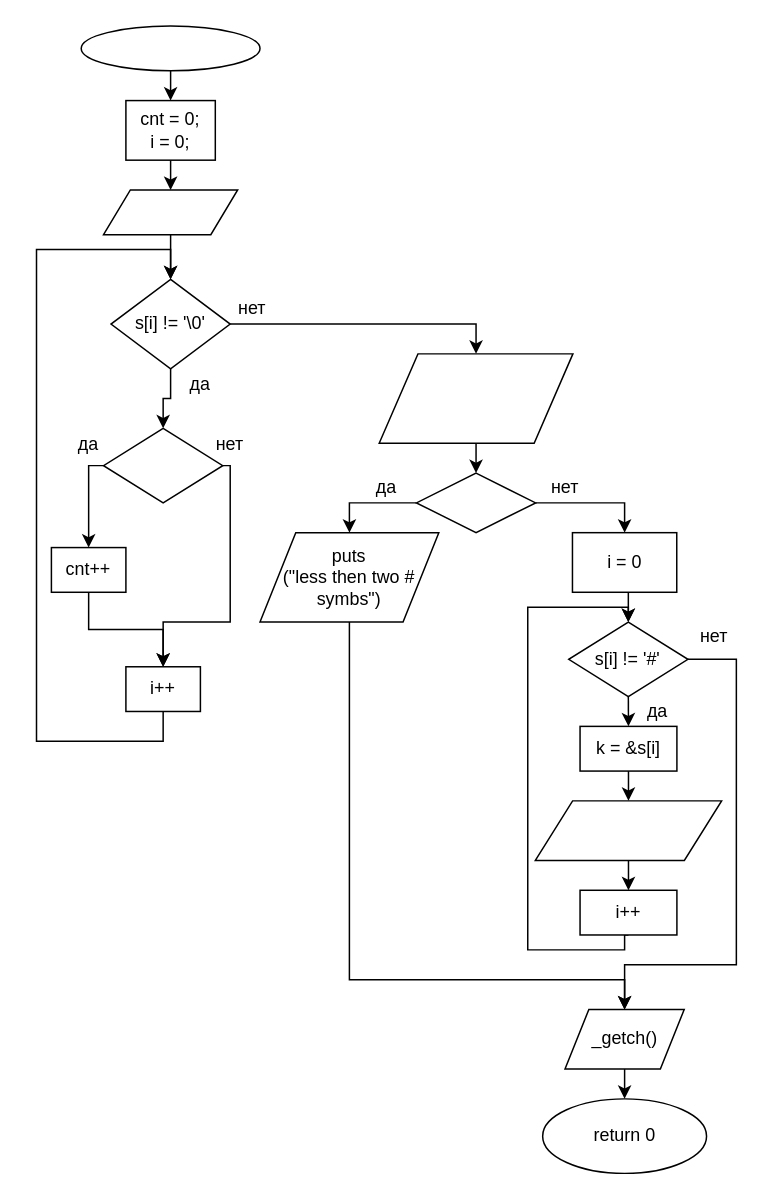
This 775x1199 diagram has some shape labels left out. Here are the shapes that lost their labels. From the top down, the box of each, then its label:
(80, 25, 260, 71): int main()
(102, 188, 238, 235): gets_s(s)
(378, 352, 573, 443): printf ("found #: %d \n", cnt)
(102, 427, 223, 503): s[i] == '#'
(415, 472, 536, 533): cnt <= 1
(534, 799, 722, 860): printf("\n %X", k)
